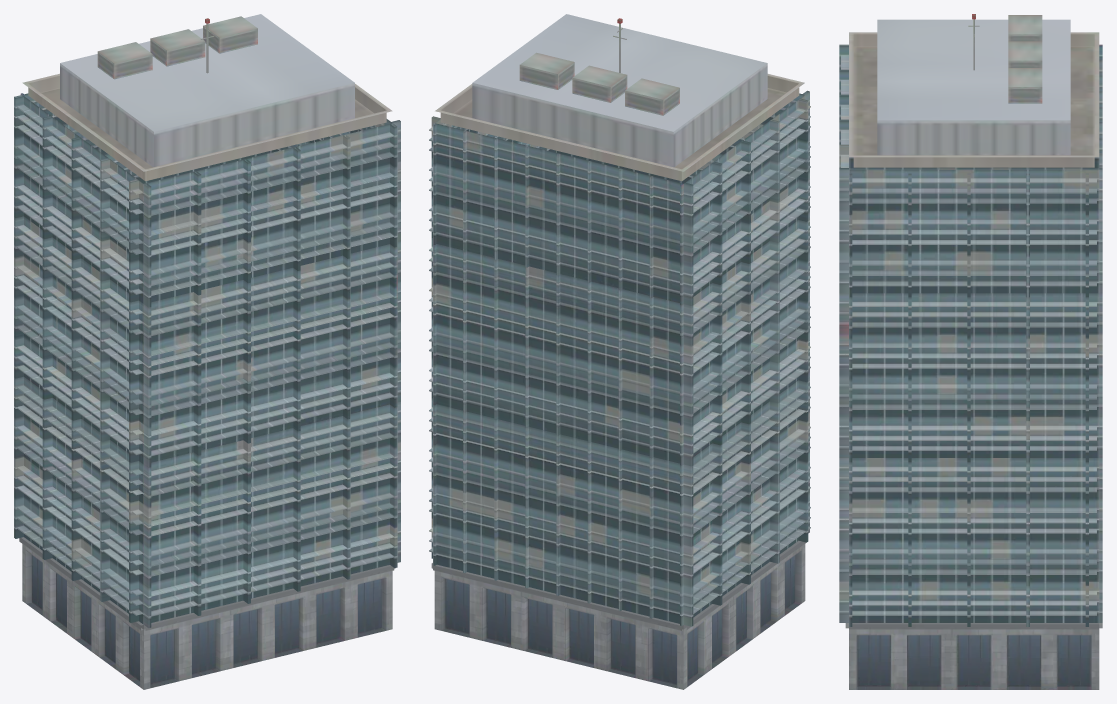
File: tokyo_midrise_d.glb
3 views of the same model, side by side, from view 1: azimuth 30°, elevation 25°; view 2: azimuth 150°, elevation 25°; view 3: azimuth 270°, elevation 25° (orthographic). The views are drawn at different scales.
Visible parts, largest first — view 1: tokyo_midrise_d; view 2: tokyo_midrise_d; view 3: tokyo_midrise_d.
Part boxes in pixels (box(x1,y1,x2,y2)): tokyo_midrise_d: box(14, 14, 400, 689); tokyo_midrise_d: box(429, 14, 810, 689); tokyo_midrise_d: box(839, 14, 1102, 689).
Size of the model in its own units: 27.7 by 59.45 by 23.15.
Materials: 1 (1 with a texture image).
